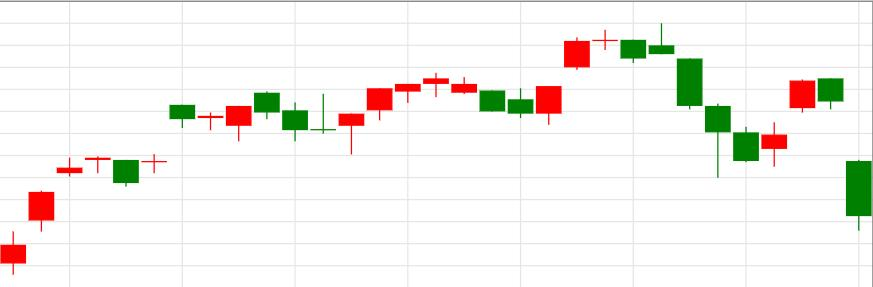hammer_rise: (592, 23, 731, 177)
